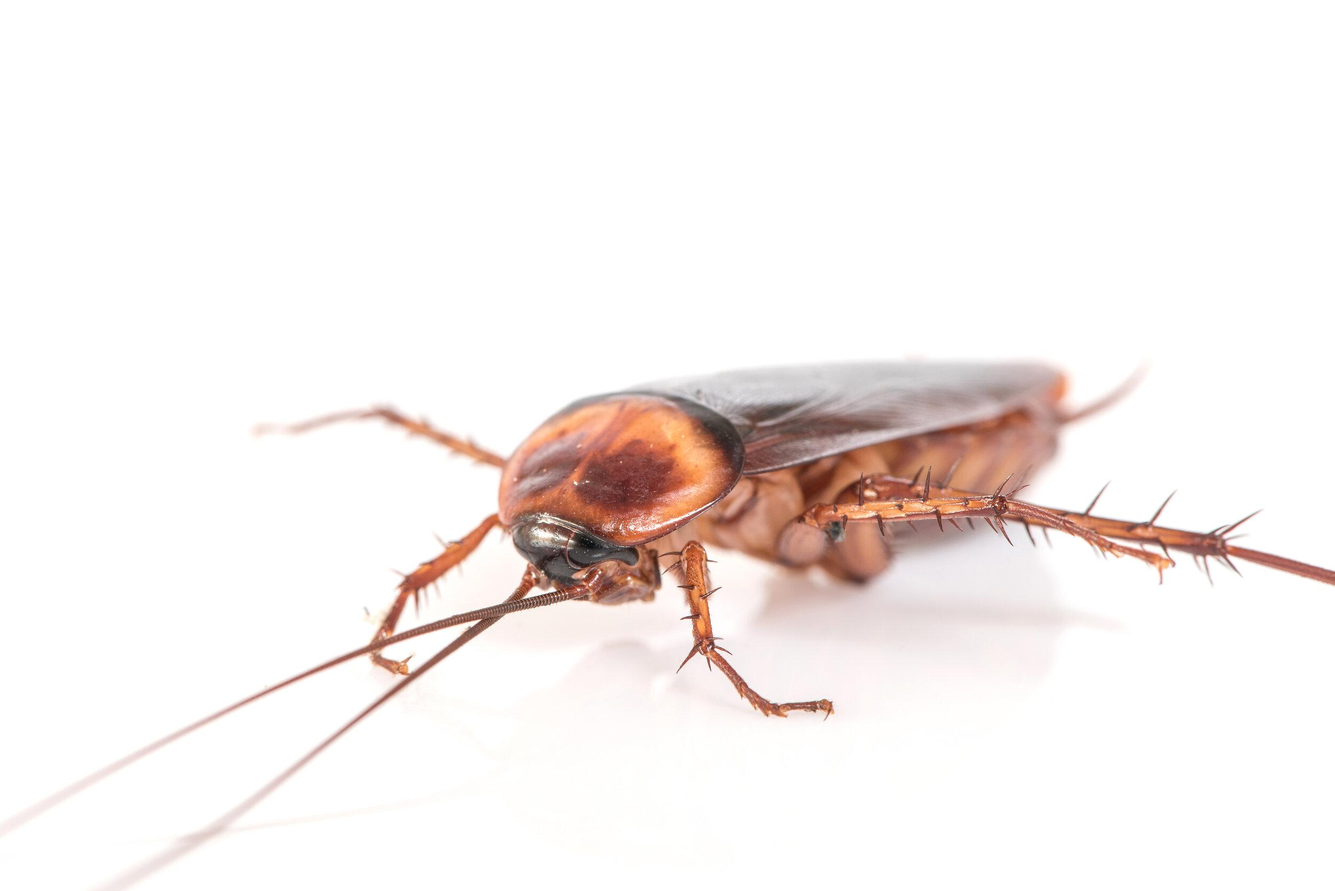cockroach: (459, 345, 1092, 622)
